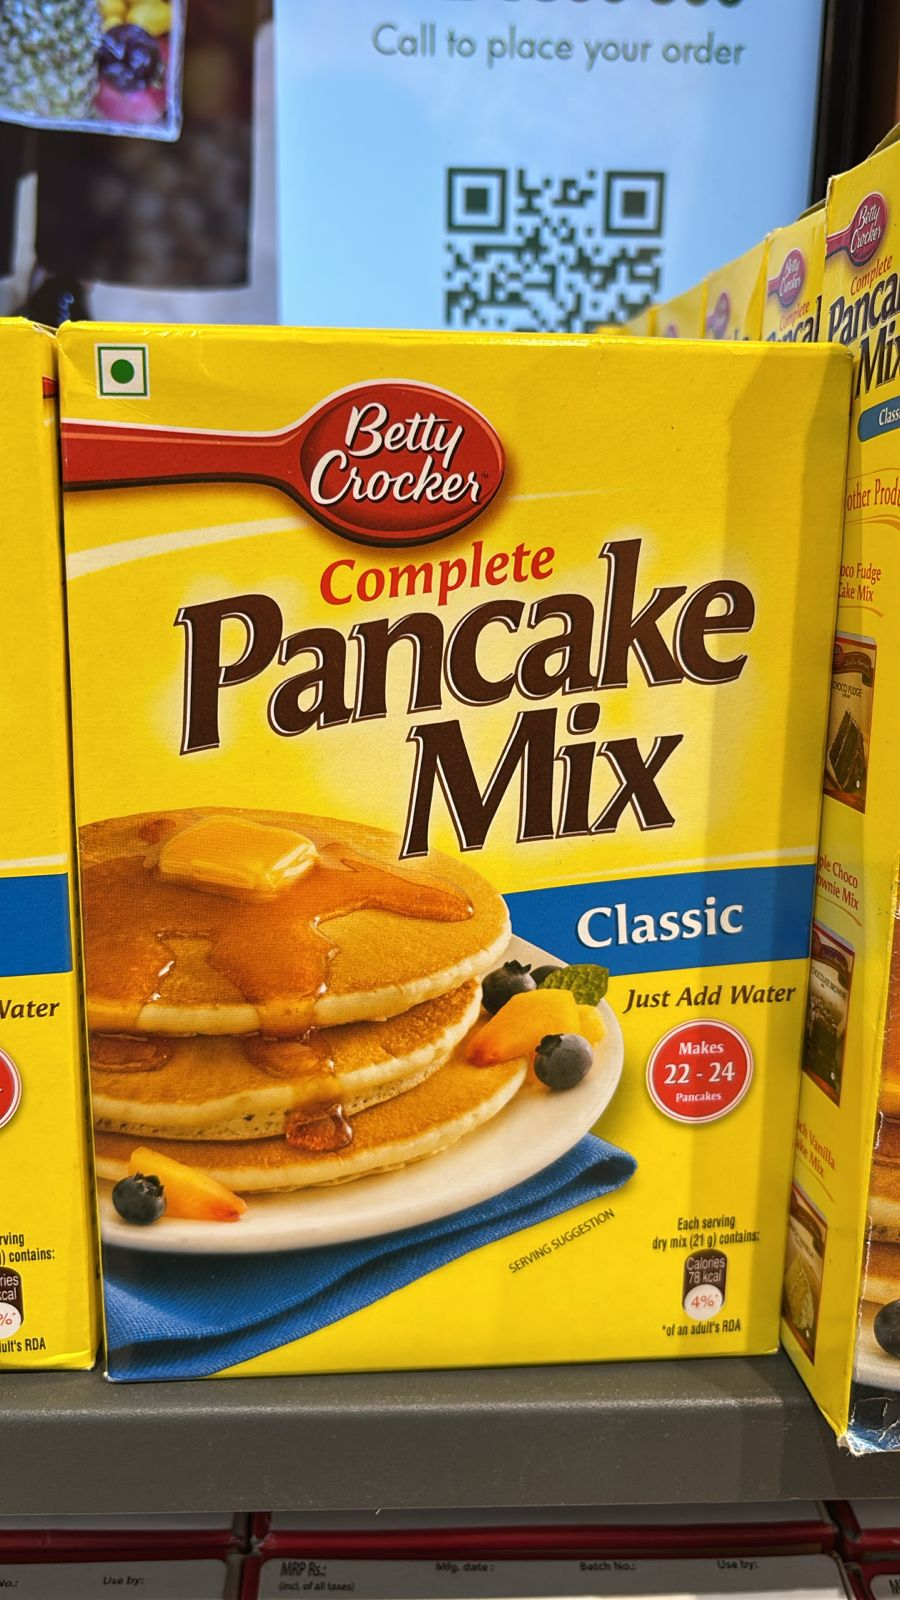Betty Crocker Pancake Mix: (49, 304, 784, 1374)
